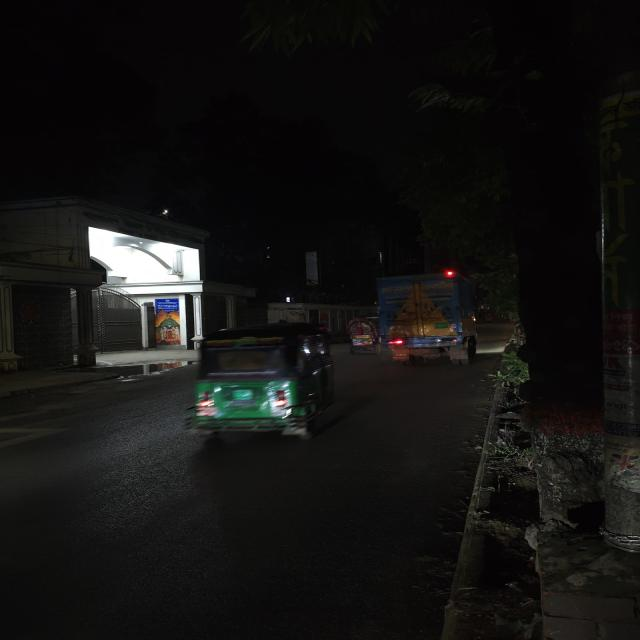cng: (165, 313, 344, 446)
rickshaw: (338, 315, 380, 358)
truck: (369, 269, 481, 365)
